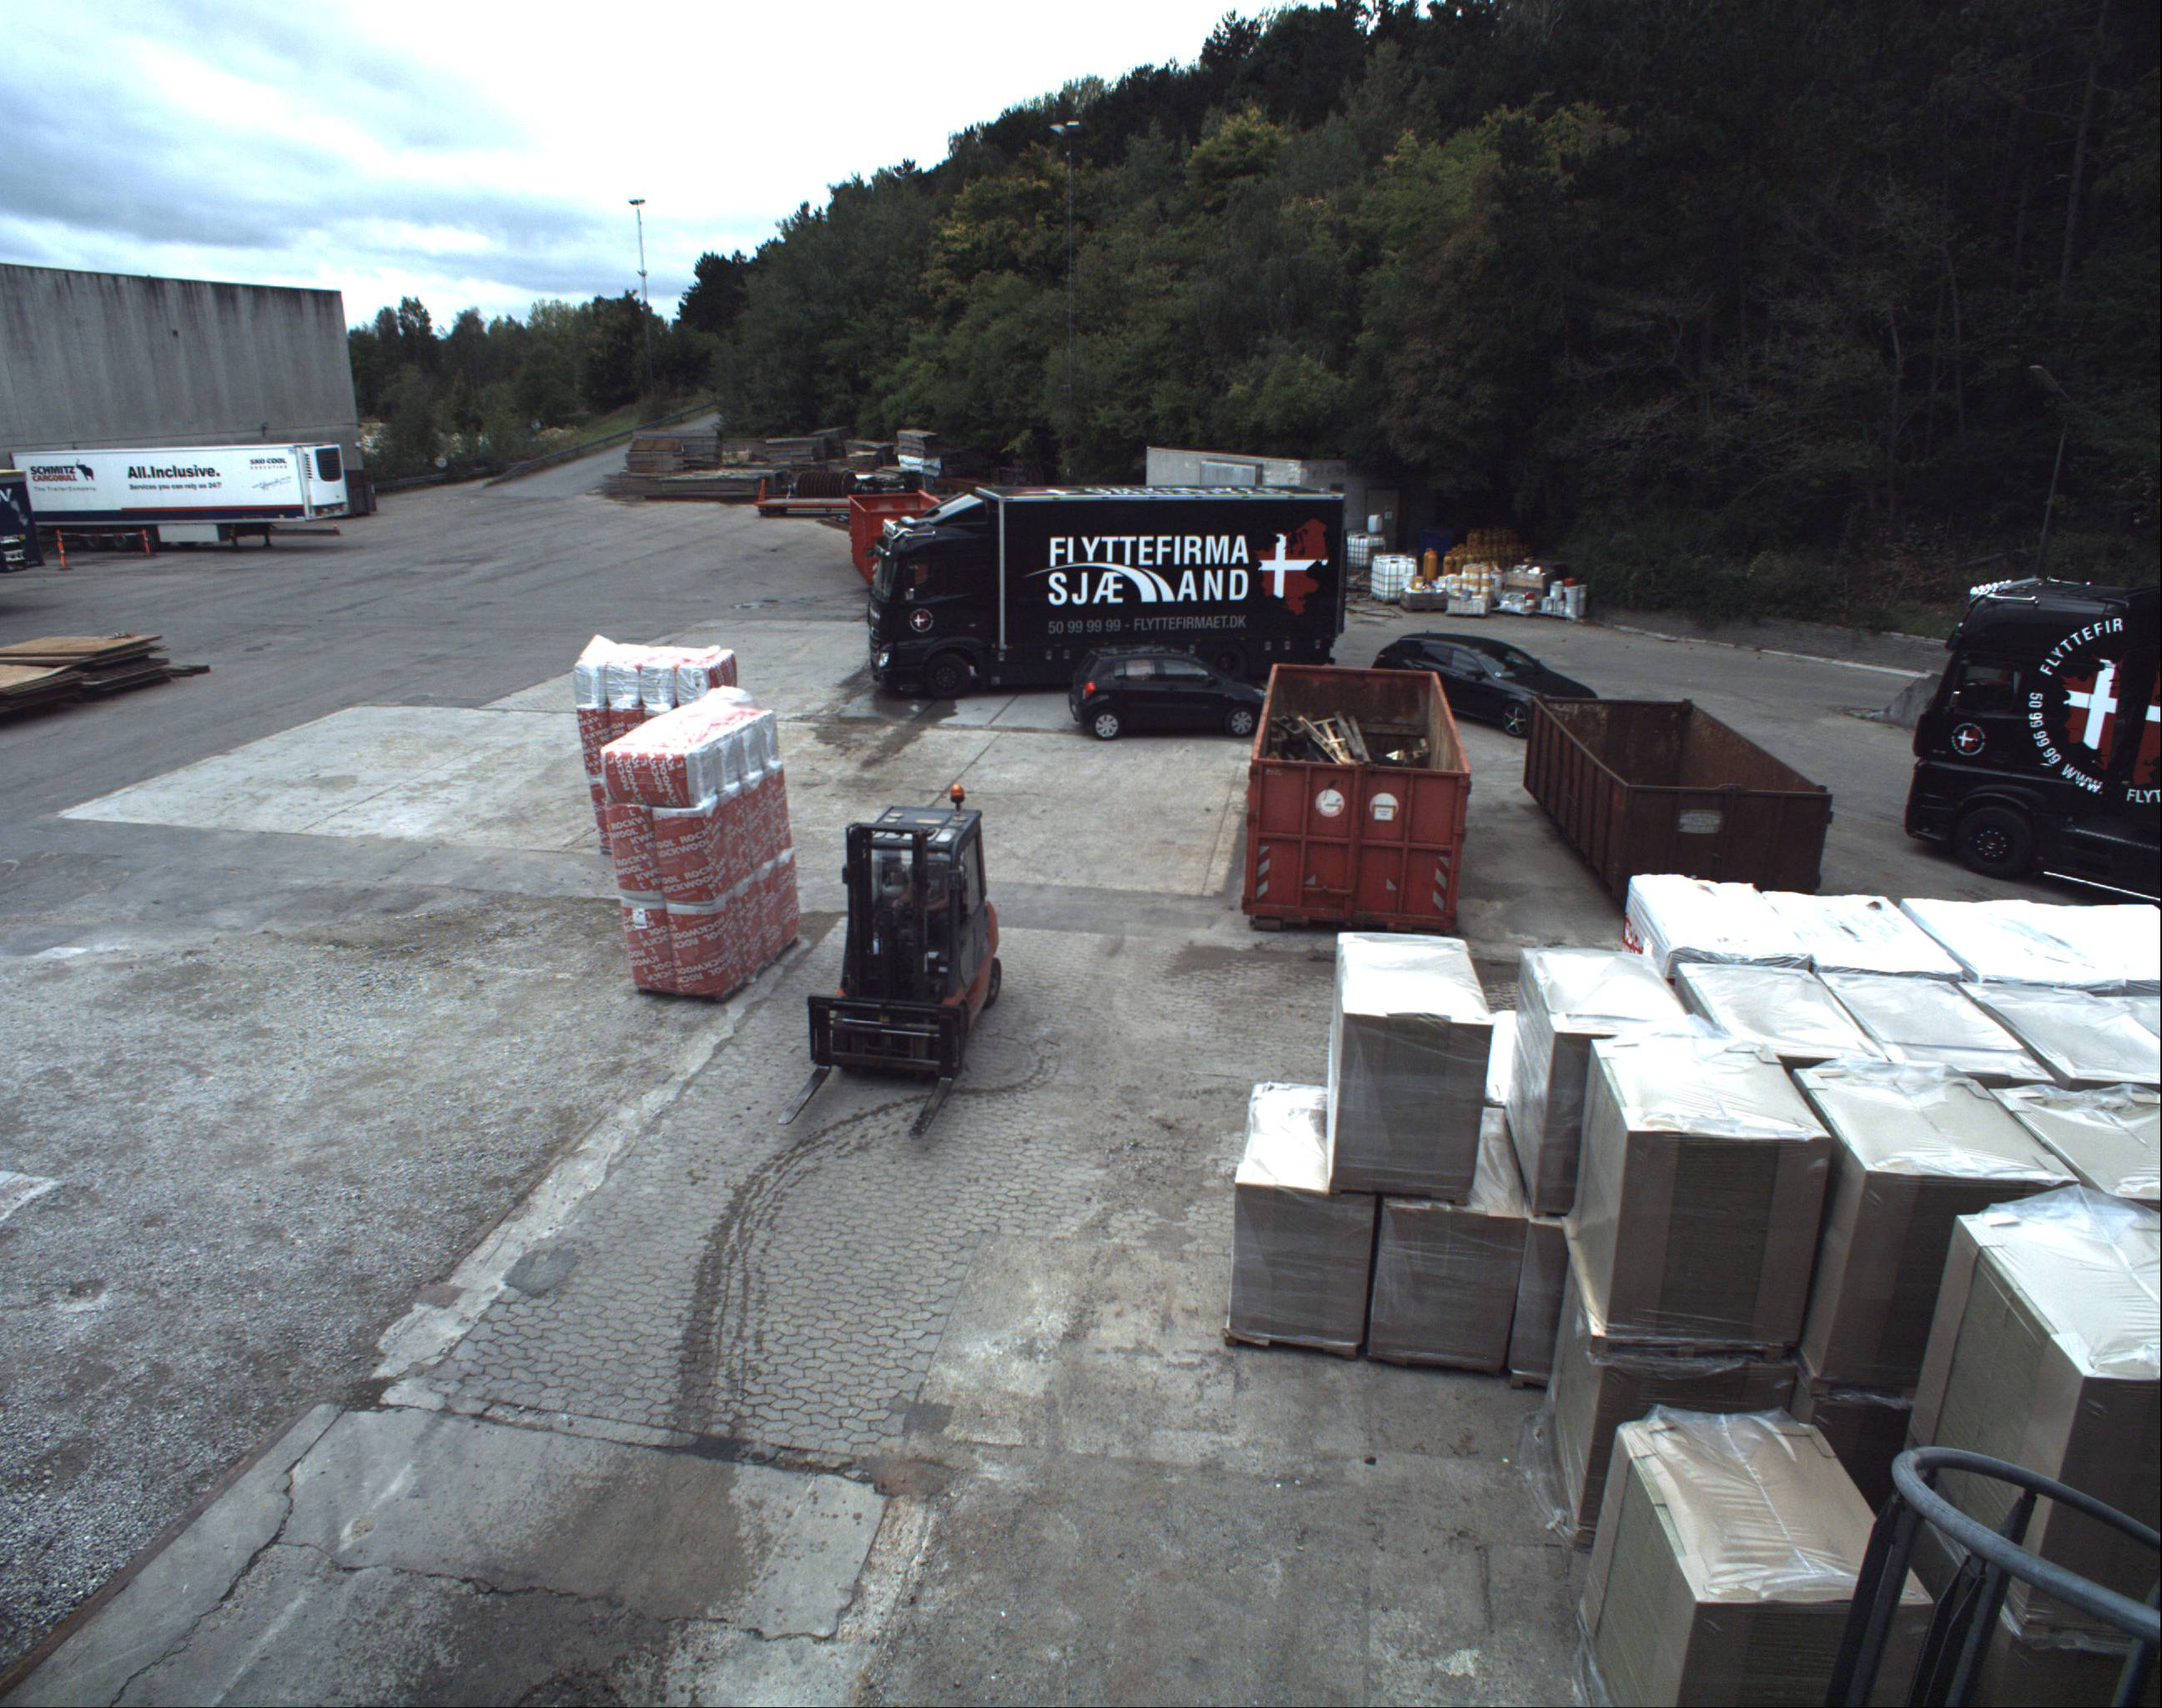rockwool_batts: (598, 695, 797, 1004), (579, 621, 737, 843)
